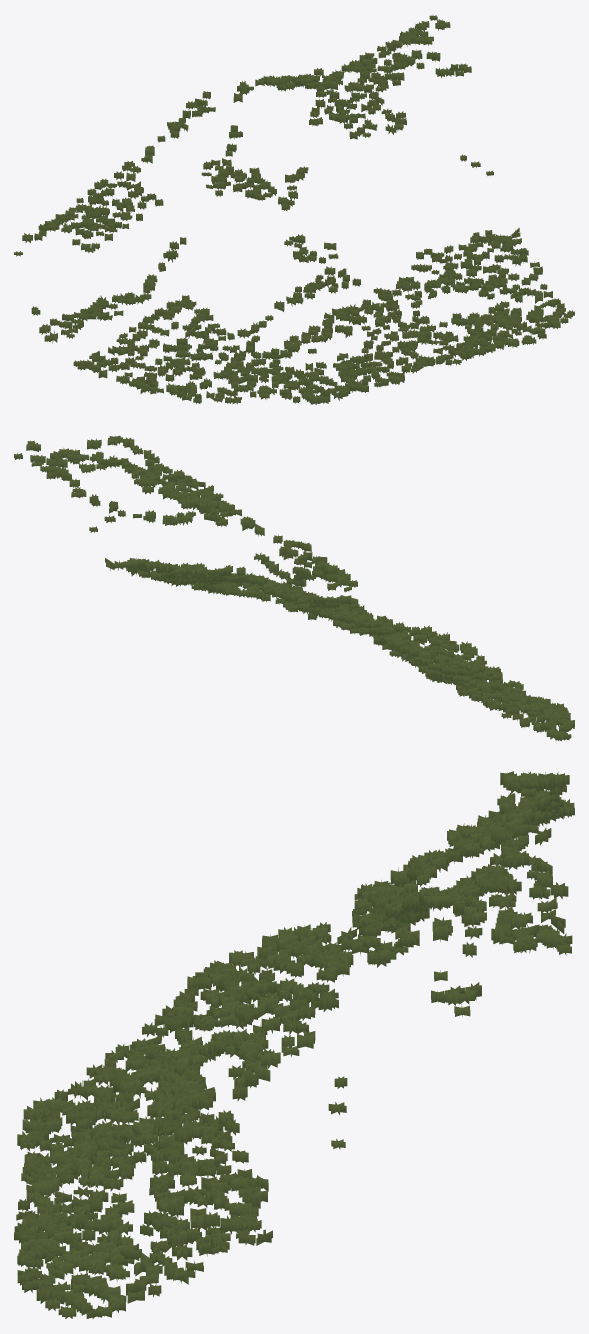
The model's file is TRB8-GRASS-CHUNK-0-1.glb.
3 renders of one model, top to bottom at view 1: azimuth 30°, elevation 25°; view 2: azimuth 150°, elevation 25°; view 3: azimuth 270°, elevation 25°, orthographic. The views are drawn at different scales.
Visible parts, largest first — view 1: TRB8-GRASS-CHUNK-0-1; view 2: TRB8-GRASS-CHUNK-0-1; view 3: TRB8-GRASS-CHUNK-0-1.
Part boxes in pixels (box(x1,y1,x2,y2)): TRB8-GRASS-CHUNK-0-1: box(14, 14, 574, 404); TRB8-GRASS-CHUNK-0-1: box(14, 435, 574, 741); TRB8-GRASS-CHUNK-0-1: box(14, 771, 574, 1318).
Bounding box in the file's own units: 28.69 × 13.84 × 17.15.
Materials: 1 (1 with a texture image).
